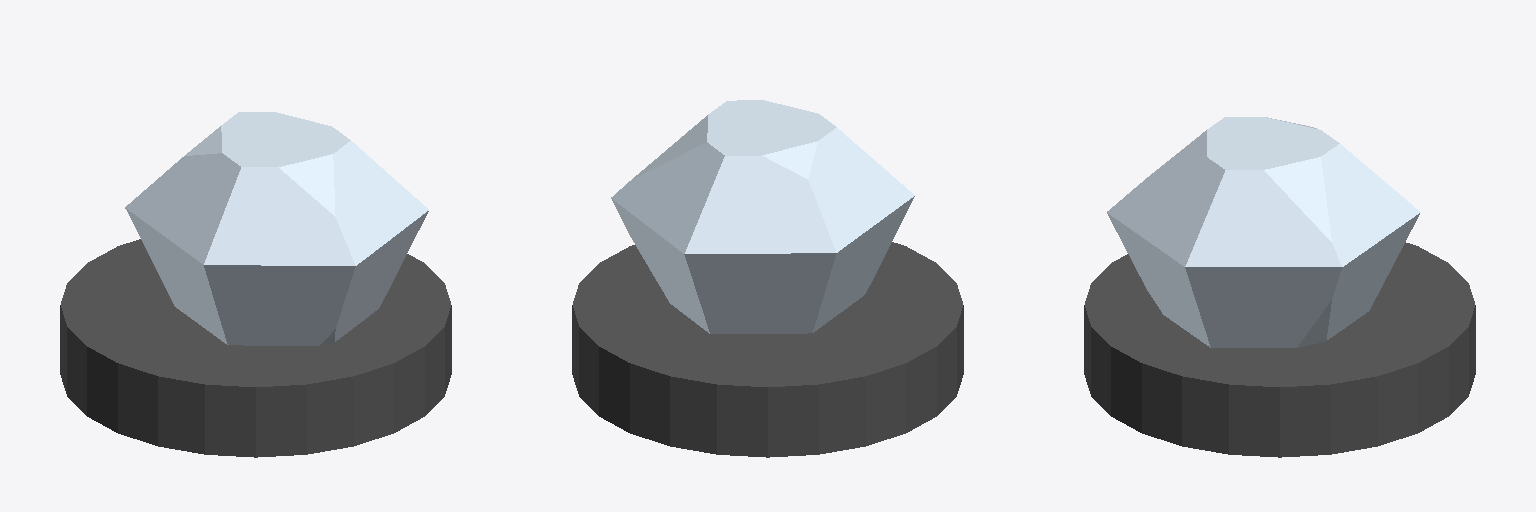
Rendered from gems_diamond_3.obj.
3 views of the same model, side by side, from view 1: azimuth 30°, elevation 25°; view 2: azimuth 150°, elevation 25°; view 3: azimuth 270°, elevation 25° (orthographic).
Visible parts, largest first — view 1: mergedBlocks; view 2: mergedBlocks; view 3: mergedBlocks.
Boxes of the visible parts, box(x1,y1,x2,y2) form: mergedBlocks: box(60, 112, 451, 457); mergedBlocks: box(572, 100, 963, 457); mergedBlocks: box(1084, 117, 1475, 457).
Size of the model in its own units: 1 by 0.6712 by 1.